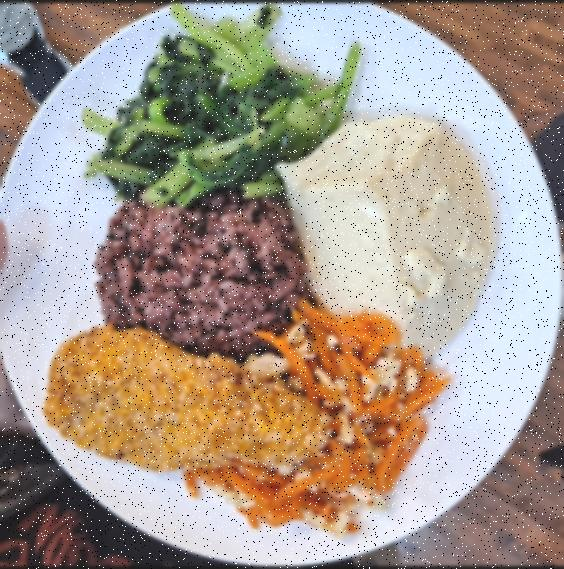chicken steak: (26, 322, 322, 480)
plate: (6, 2, 564, 556)
purple rice: (99, 192, 306, 344)
side dish: (176, 336, 443, 528), (87, 18, 334, 208), (286, 118, 496, 338)
